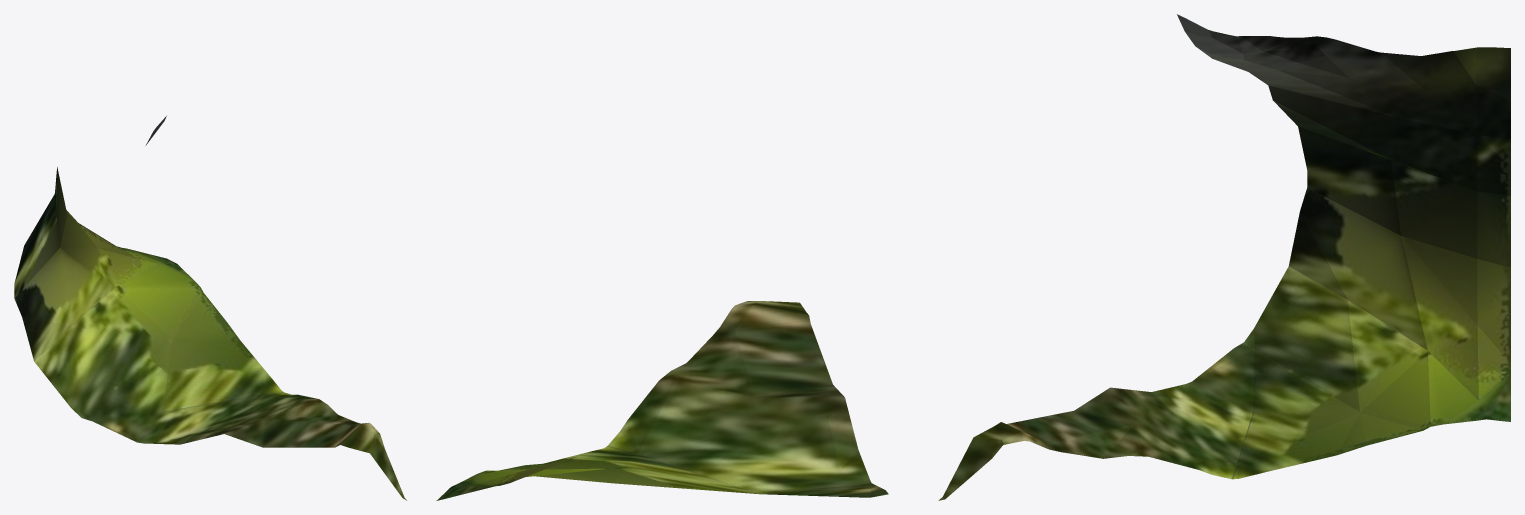
The picture shows the model from 3 angles, left to right: view 1: azimuth 30°, elevation 25°; view 2: azimuth 150°, elevation 25°; view 3: azimuth 270°, elevation 25°; orthographic projection. The views are drawn at different scales.
Size of the model in its own units: 1.68 by 2.25 by 2.94.
Materials: 1 (1 with a texture image).
